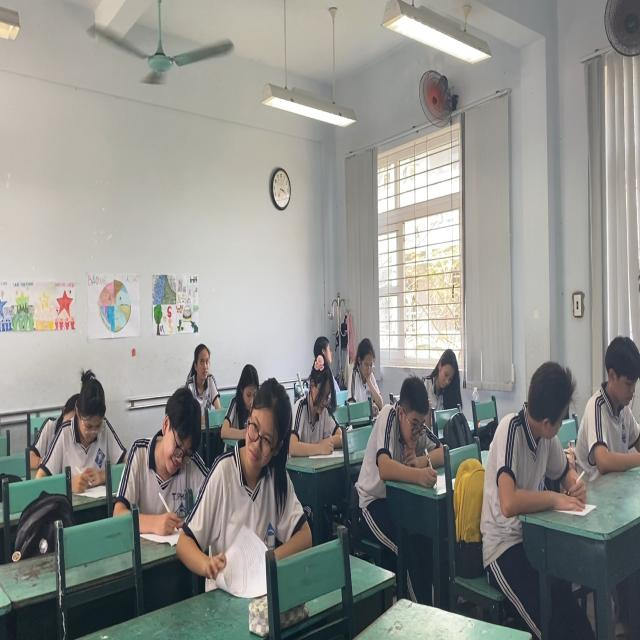cheating: (224, 353, 294, 571)
not_cheating: (482, 364, 592, 522), (130, 388, 213, 523), (52, 364, 122, 478), (586, 339, 640, 474), (367, 371, 435, 474), (301, 357, 342, 474), (346, 330, 385, 409), (186, 340, 217, 405), (430, 350, 460, 402)
